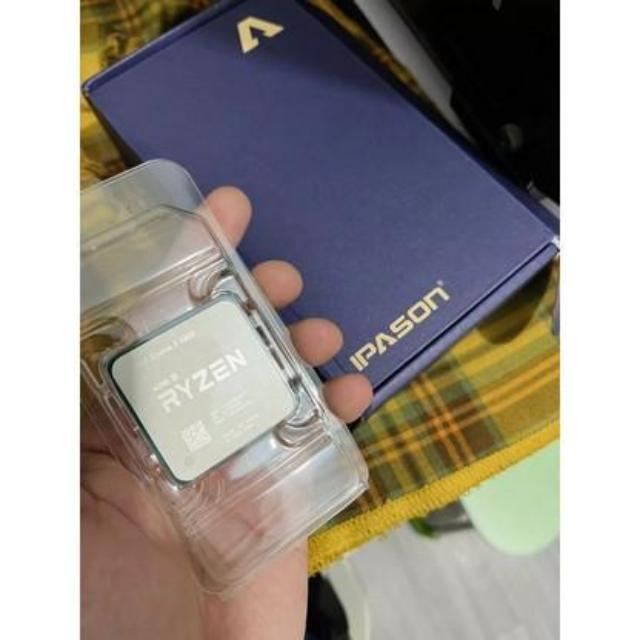CPU: (106, 296, 296, 490)
